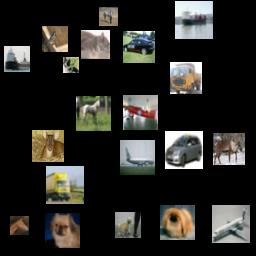airplane: (212, 205, 250, 243), (120, 140, 155, 175), (123, 95, 158, 130)
automobile: (165, 131, 203, 169), (123, 31, 155, 63)
bird: (42, 26, 68, 52)
cat: (81, 30, 110, 59)
deer: (32, 130, 64, 162), (213, 133, 245, 165)
dog: (45, 213, 80, 248), (160, 205, 195, 240), (115, 212, 141, 238), (63, 57, 79, 73)
ship: (175, 1, 213, 39), (4, 46, 30, 72)
truck: (46, 166, 84, 204), (170, 62, 202, 94)
